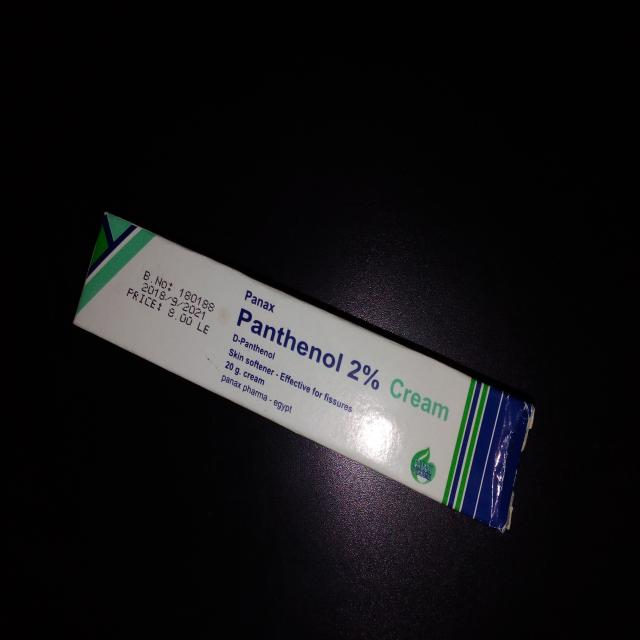Medicine: (72, 210, 536, 536)
